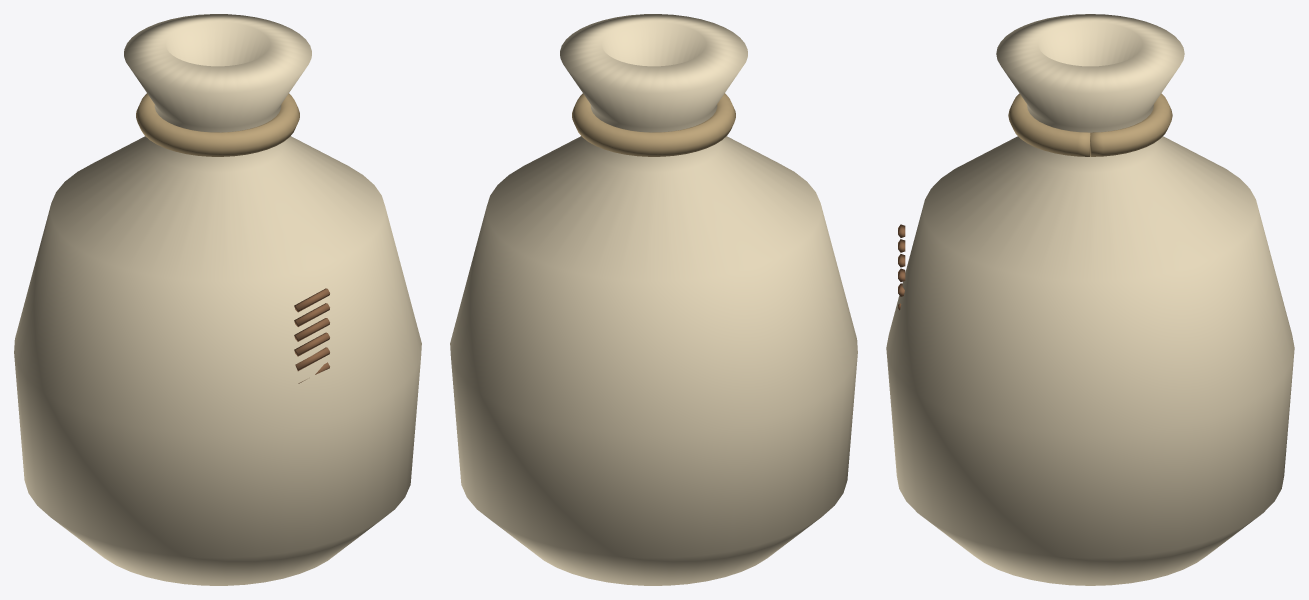
Rendered from grain-sack.glb.
3 views of the same model, side by side, from view 1: azimuth 30°, elevation 25°; view 2: azimuth 150°, elevation 25°; view 3: azimuth 270°, elevation 25° (orthographic).
Visible parts, largest first — view 1: grain-sack__linen, grain-sack__rope, grain-sack__wood; view 2: grain-sack__linen, grain-sack__rope; view 3: grain-sack__linen, grain-sack__rope.
Boxes of the visible parts, <box> form: grain-sack__linen: <box>14,14,421,585</box>; grain-sack__rope: <box>136,93,299,156</box>; grain-sack__wood: <box>294,288,329,383</box>; grain-sack__linen: <box>450,14,857,585</box>; grain-sack__rope: <box>572,93,735,156</box>; grain-sack__linen: <box>886,14,1294,585</box>; grain-sack__rope: <box>1008,93,1172,156</box>.
Bounding box in the file's own units: 0.78 × 1.04 × 0.78.
